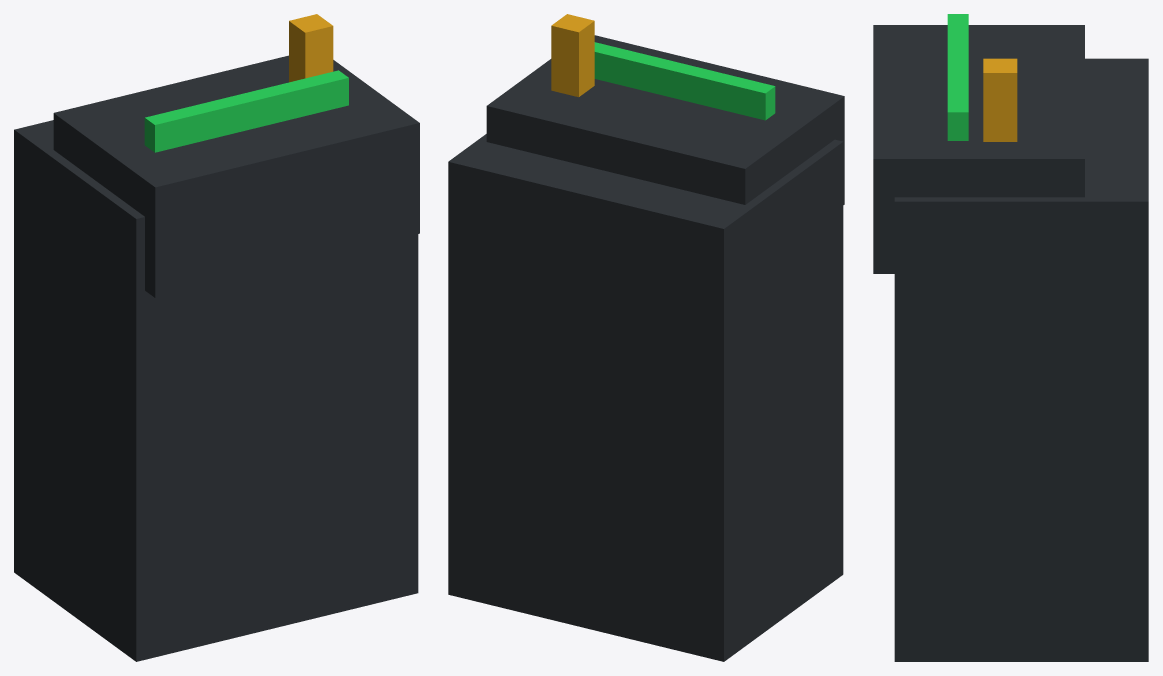
Rendered from rail_console.obj.
3 views of the same model, side by side, from view 1: azimuth 30°, elevation 25°; view 2: azimuth 150°, elevation 25°; view 3: azimuth 270°, elevation 25° (orthographic). The views are drawn at different scales.
Size of the model in its own units: 0.8 by 1.48 by 0.65.
